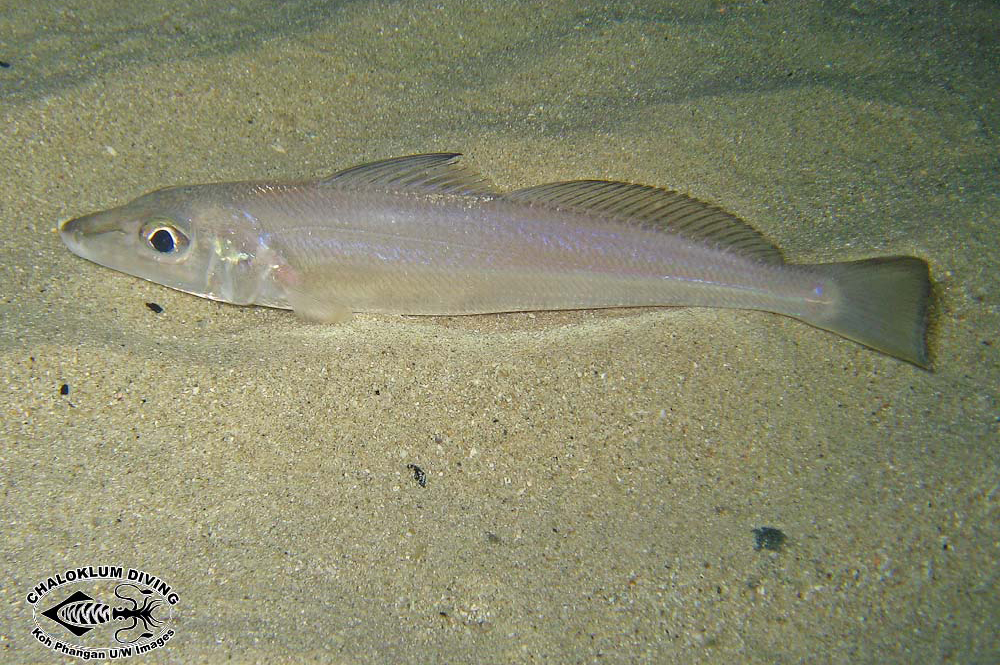kiss: (47, 150, 948, 365)
